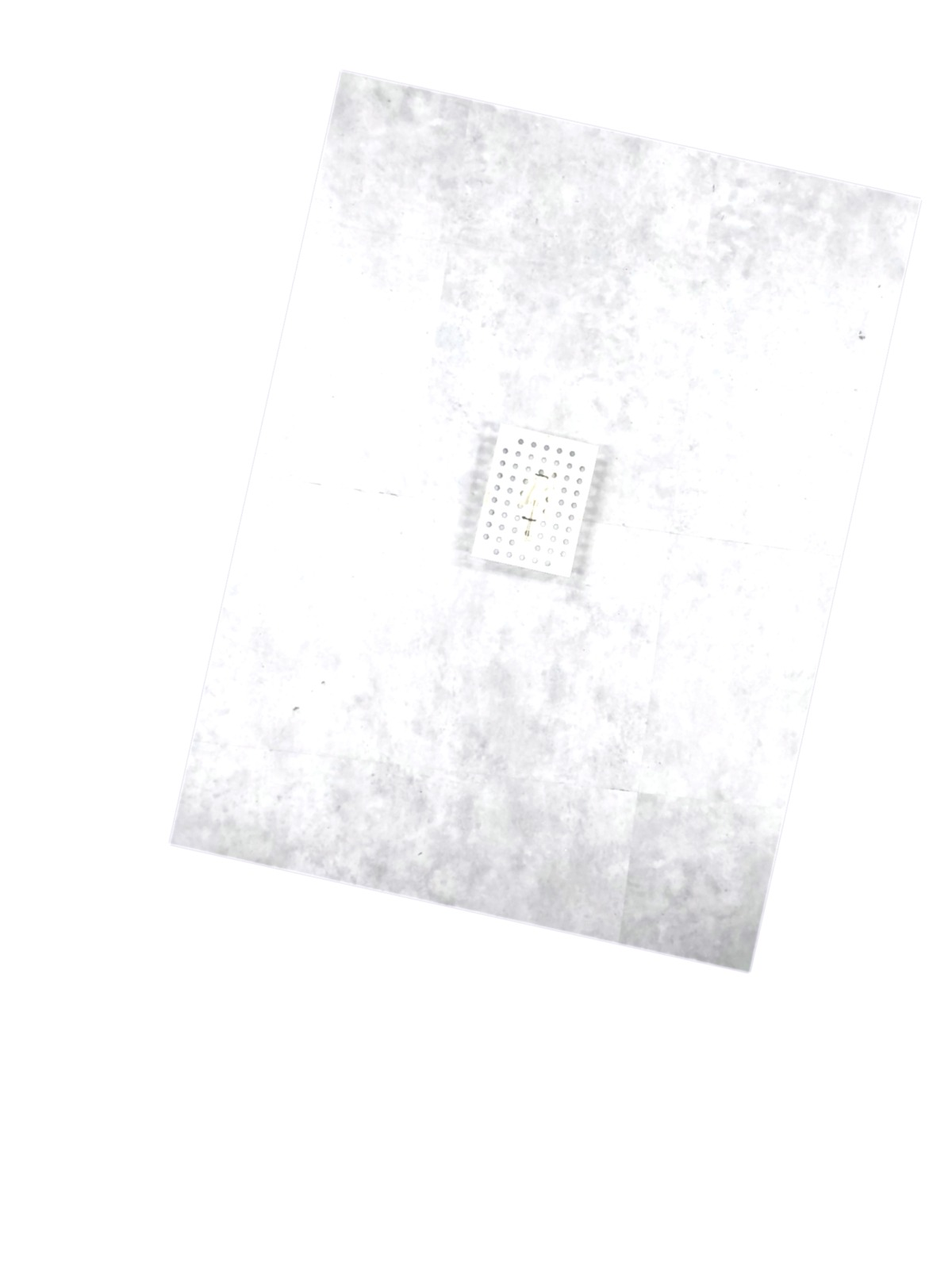basket: (466, 420, 601, 583)
mannequin: (518, 470, 551, 545)
